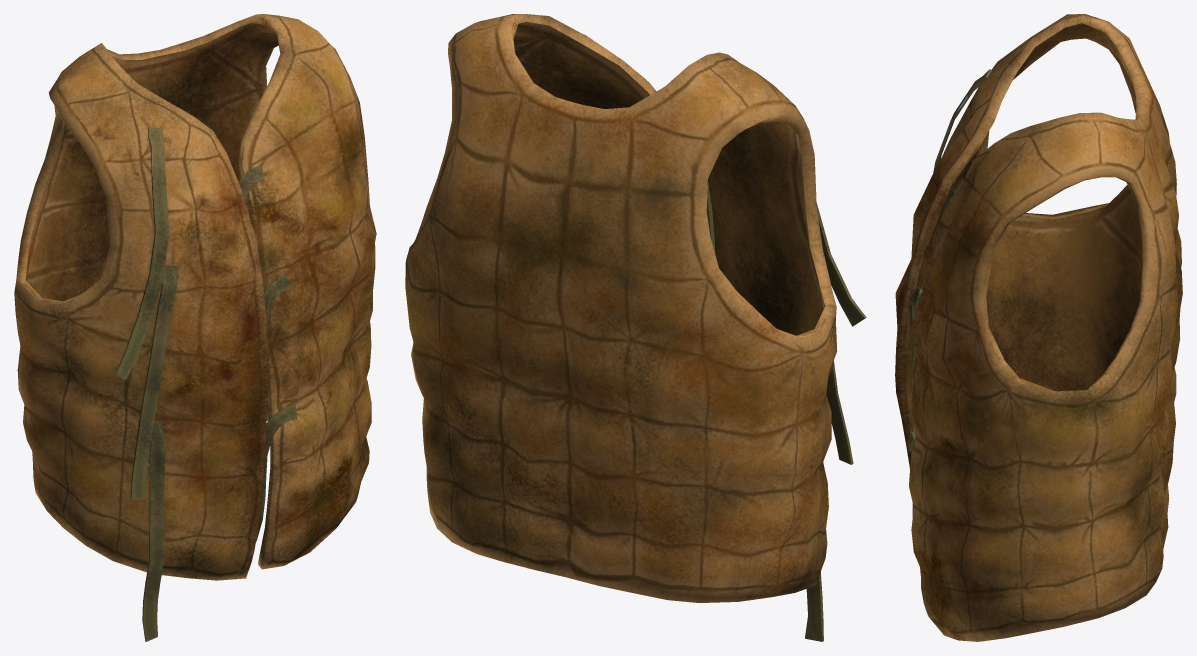
The model's file is crash_site_life_vest.dae.
The picture shows the model from 3 angles, left to right: view 1: azimuth 30°, elevation 25°; view 2: azimuth 150°, elevation 25°; view 3: azimuth 270°, elevation 25°; orthographic projection. The views are drawn at different scales.
Parts seen in each view (by area): view 1: crash_site_life_vest; view 2: crash_site_life_vest; view 3: crash_site_life_vest.
Part boxes in pixels (left/top/right/bottom): crash_site_life_vest: left=14, top=14, right=376, bottom=641; crash_site_life_vest: left=405, top=14, right=866, bottom=641; crash_site_life_vest: left=895, top=14, right=1182, bottom=641.
Bounding box in the file's own units: 45.76 × 68.72 × 30.27.
